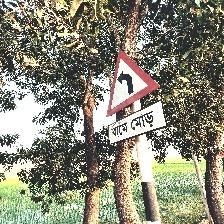Left-Turn: (103, 49, 167, 145)
